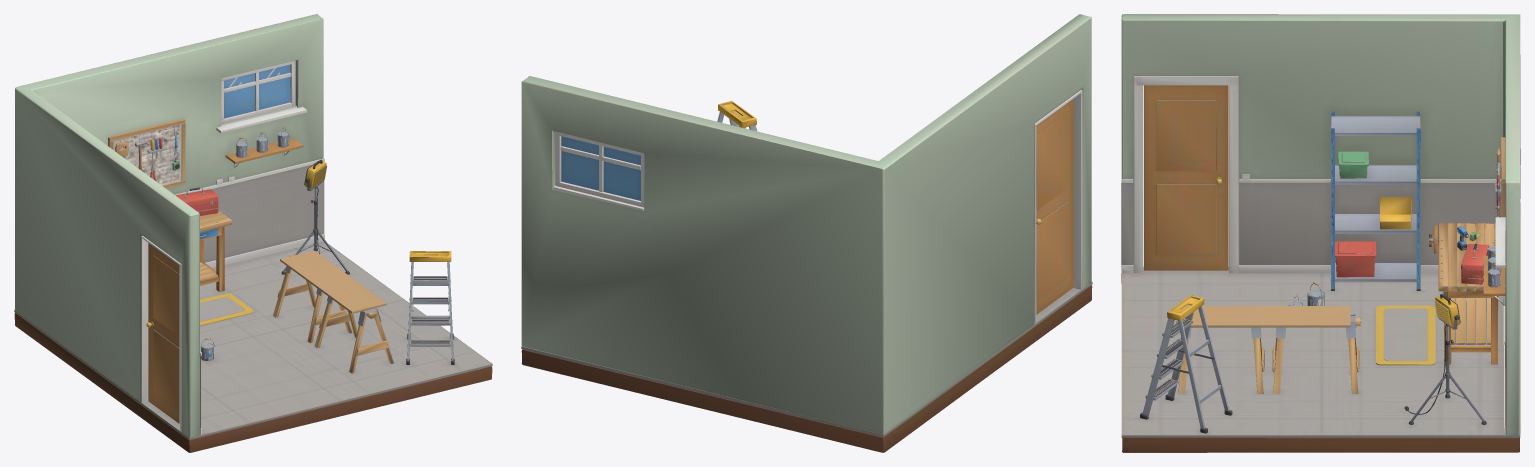
File: taller_referencia_ligero.glb
3 views of the same model, side by side, from view 1: azimuth 30°, elevation 25°; view 2: azimuth 150°, elevation 25°; view 3: azimuth 270°, elevation 25° (orthographic). The views are drawn at different scales.
Parts seen in each view (by area): view 1: basement-workshop_body; view 2: basement-workshop_body; view 3: basement-workshop_body.
Part boxes in pixels (x1,y1,x2,y2): basement-workshop_body: [14, 14, 492, 452]; basement-workshop_body: [521, 14, 1092, 452]; basement-workshop_body: [1121, 14, 1520, 452].
Size of the model in its own units: 4 by 3 by 4.
4 materials, 1 textured.
